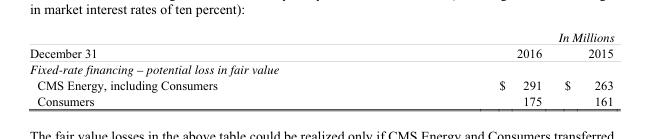table: (28, 28, 613, 108)
table column: (28, 28, 357, 108), (357, 28, 549, 108), (549, 28, 613, 108)
table column header: (28, 28, 613, 60)
table projected row header: (28, 60, 613, 77)
table row: (28, 28, 613, 60), (28, 60, 613, 77), (28, 92, 613, 108), (28, 77, 613, 92)
